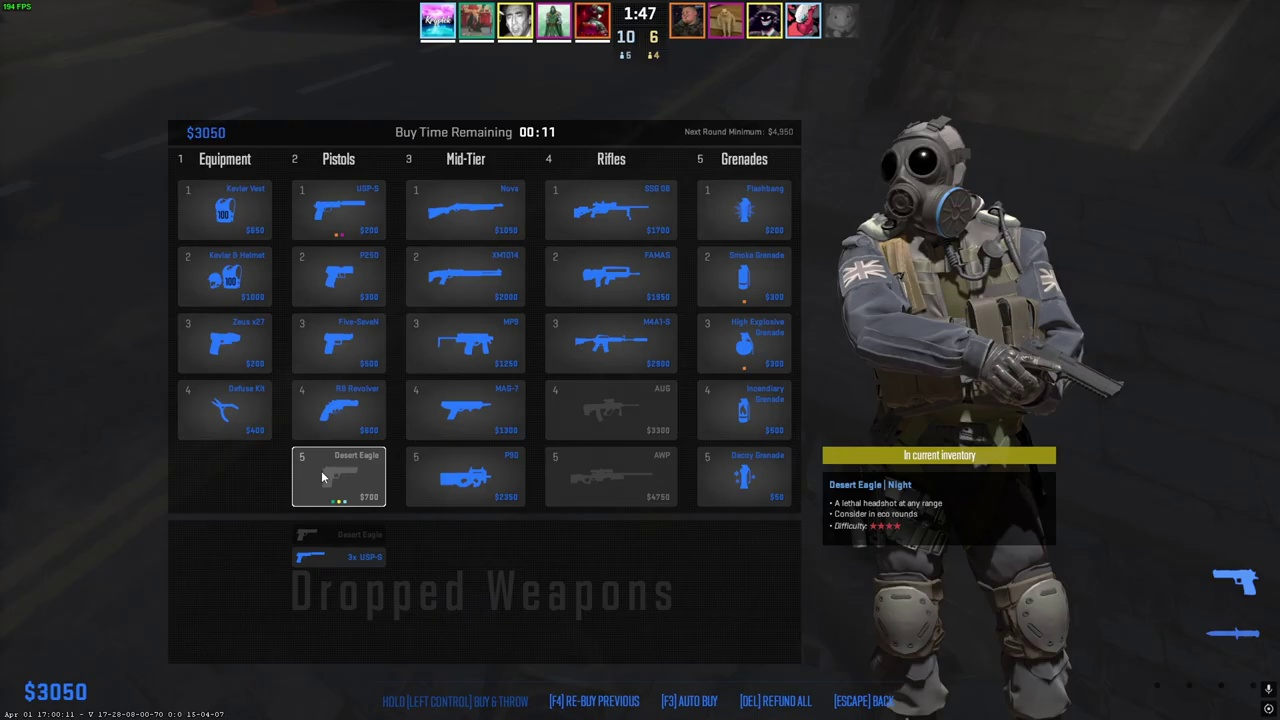CT: (854, 122, 1083, 720)
